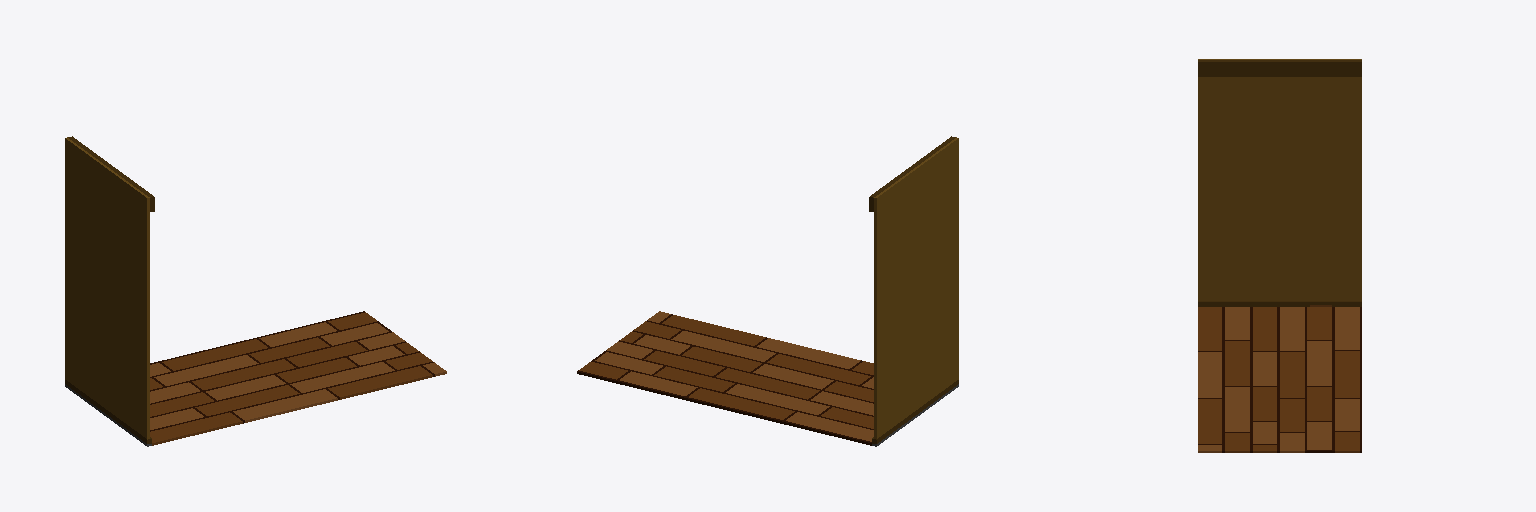
The picture shows the model from 3 angles: view 1: azimuth 30°, elevation 25°; view 2: azimuth 150°, elevation 25°; view 3: azimuth 270°, elevation 25°; orthographic projection.
Parts seen in each view (by area): view 1: object 1; view 2: object 1; view 3: object 1.
Part boxes in pixels (x1,y1,x2,y2): object 1: (65,136,446,446); object 1: (577,136,958,446); object 1: (1198,59,1361,452).
Bounding box in the file's own units: 12.6 × 10 × 6.
1 materials, 1 textured.